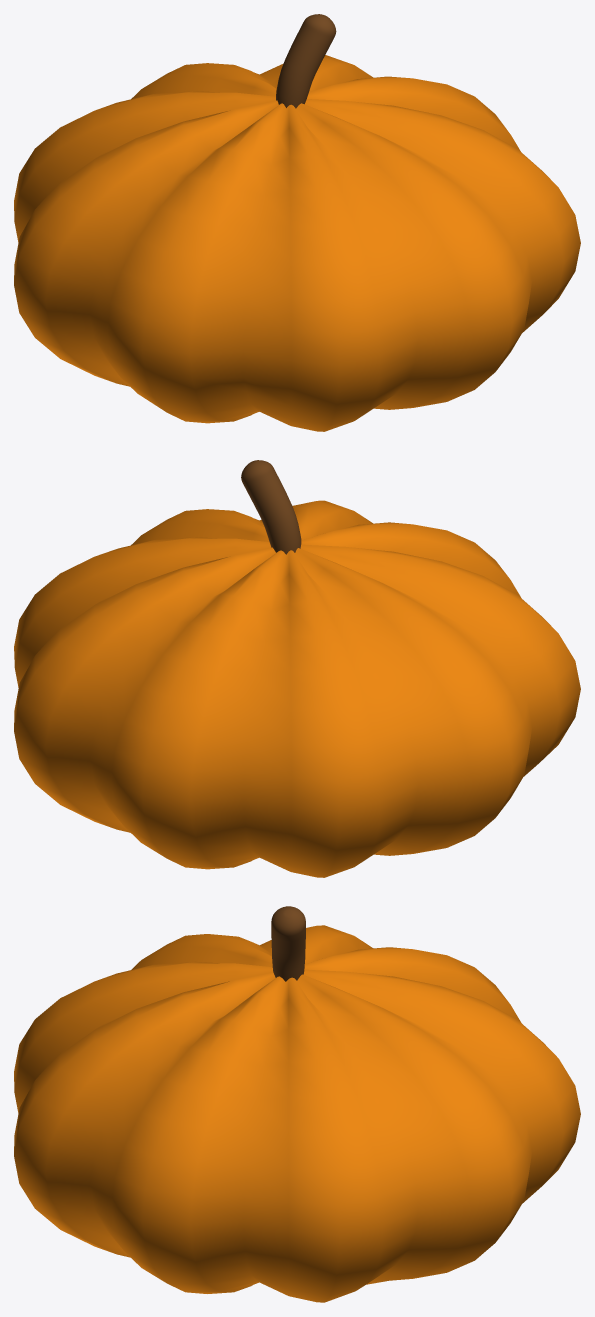
File: Labu.fbx
3 views of the same model, one above another, from view 1: azimuth 30°, elevation 25°; view 2: azimuth 150°, elevation 25°; view 3: azimuth 270°, elevation 25° (orthographic).
Parts seen in each view (by area): view 1: Labu; view 2: Labu; view 3: Labu.
Boxes of the visible parts, x1=… form: Labu: x1=14, y1=14, x2=580, y2=431; Labu: x1=14, y1=460, x2=580, y2=877; Labu: x1=14, y1=906, x2=580, y2=1302.
Bounding box in the file's own units: 264 × 185 × 260.
